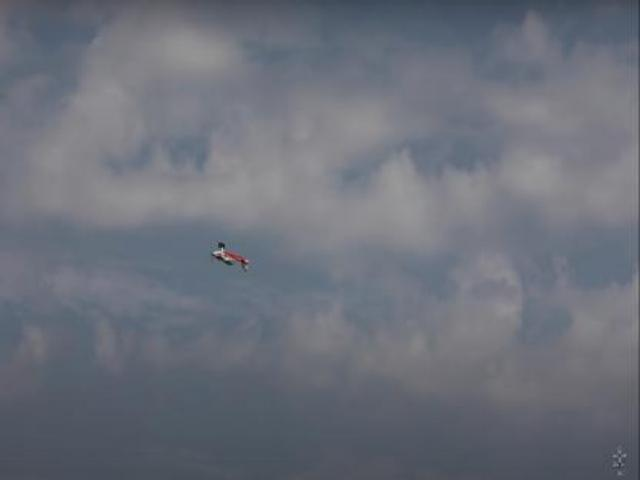uav: (206, 237, 254, 278)
